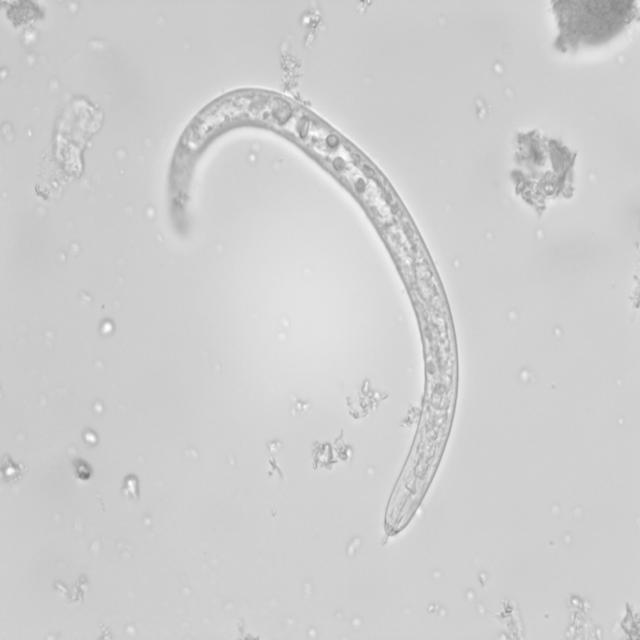Helicotylenchus: (162, 78, 456, 563)
